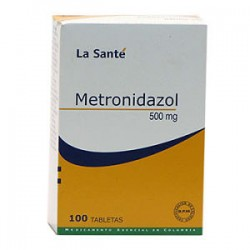LaSante: (62, 24, 203, 235)
